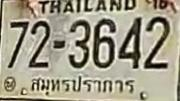2: (144, 15, 169, 68), (28, 20, 50, 67)
3: (68, 19, 90, 67)
4: (118, 16, 141, 68)
6: (92, 18, 115, 67)
7: (7, 20, 28, 68)
SPK: (29, 72, 140, 99)
